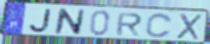0: (89, 10, 112, 37)
C: (145, 12, 174, 39)
J: (28, 8, 53, 33)
N: (54, 8, 87, 36)
R: (114, 12, 144, 37)
X: (175, 13, 203, 41)
